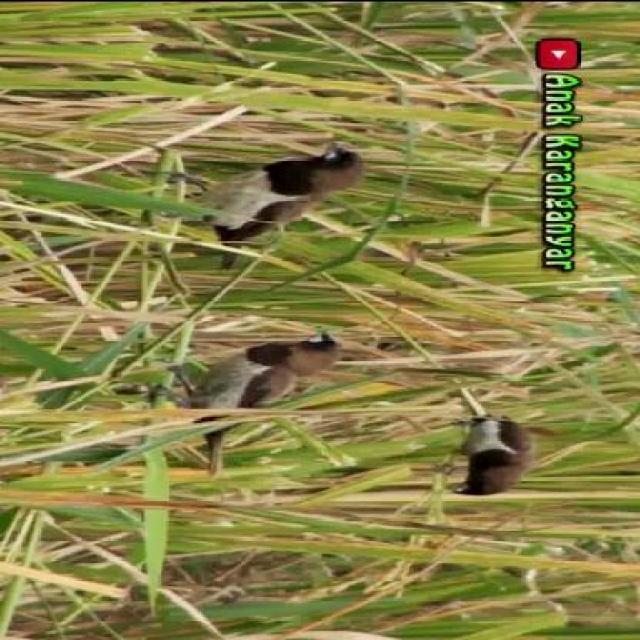Bird: (198, 124, 379, 273), (186, 314, 355, 448), (443, 378, 561, 525)
